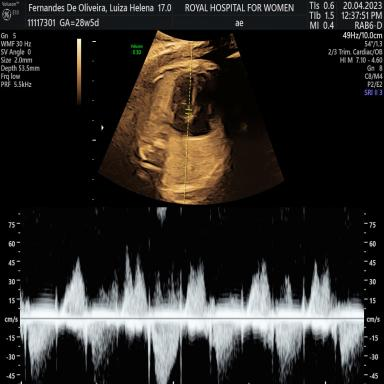Ultrasound-Waves: (24, 210, 361, 380)
